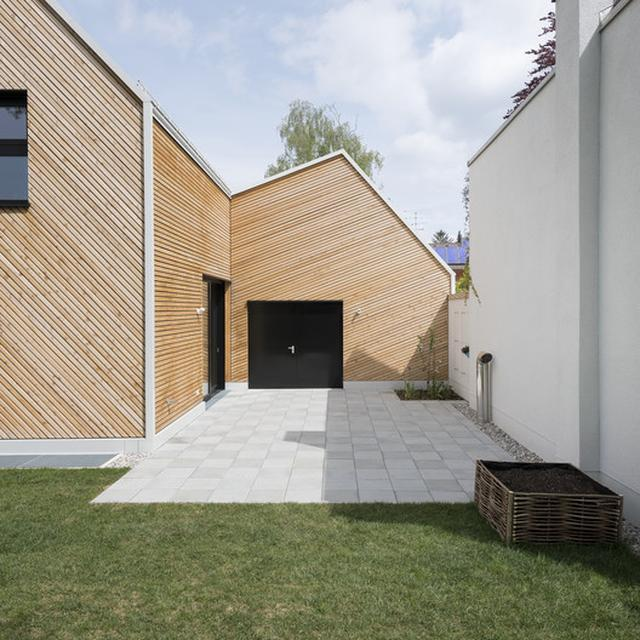building: (0, 0, 460, 442)
